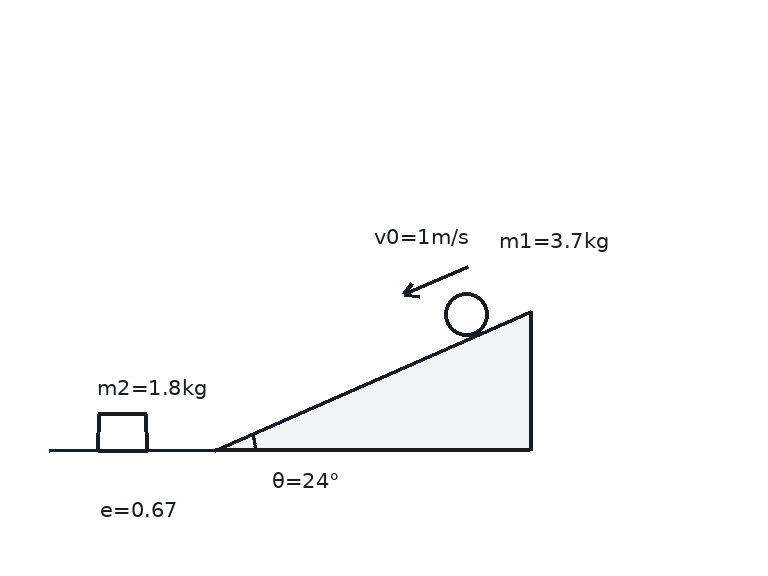ball: (442, 290, 490, 338)
block: (96, 412, 148, 452)
ramp: (213, 308, 532, 452)
